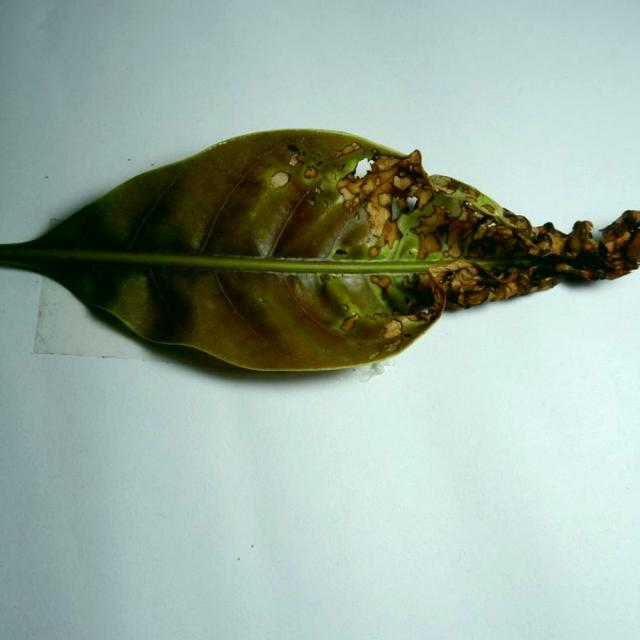Anthracnose: (323, 206, 375, 258), (363, 200, 392, 242), (591, 222, 621, 251), (416, 230, 442, 260), (368, 338, 399, 361), (351, 157, 379, 182), (337, 313, 363, 337), (213, 265, 274, 275), (337, 180, 360, 205), (439, 195, 463, 218), (255, 232, 277, 256), (334, 141, 363, 159), (380, 219, 399, 246), (373, 154, 402, 171), (353, 158, 374, 181), (382, 318, 403, 338), (338, 313, 360, 332), (315, 271, 352, 282), (269, 171, 290, 189), (392, 173, 413, 191), (187, 235, 205, 251), (371, 275, 391, 289), (390, 198, 402, 221), (377, 191, 393, 207), (405, 195, 419, 213), (287, 151, 302, 167), (383, 339, 400, 353), (402, 275, 416, 289), (440, 241, 453, 256), (432, 176, 449, 187), (304, 166, 318, 179), (342, 198, 355, 212), (441, 270, 456, 282), (425, 250, 443, 260), (368, 245, 381, 258), (416, 305, 432, 315), (486, 220, 499, 232), (372, 312, 388, 320), (368, 349, 379, 360), (483, 204, 495, 214), (381, 287, 389, 301), (399, 202, 409, 213), (410, 184, 420, 194), (595, 269, 605, 279), (346, 172, 357, 181), (334, 249, 348, 255), (307, 198, 316, 207), (318, 199, 327, 208), (397, 170, 407, 178), (320, 274, 330, 282), (313, 186, 321, 195), (337, 163, 346, 171), (371, 148, 380, 156), (632, 259, 640, 268), (391, 310, 401, 317), (368, 159, 375, 169), (341, 304, 349, 312), (409, 248, 418, 255), (330, 172, 337, 181), (634, 223, 640, 233), (353, 212, 360, 220), (403, 333, 413, 338), (258, 296, 265, 303), (220, 140, 228, 146), (356, 342, 362, 349), (316, 160, 323, 166), (404, 297, 410, 304), (315, 152, 321, 158), (320, 347, 327, 352), (74, 246, 80, 251), (302, 151, 307, 156)
Mango: (0, 128, 639, 380)
